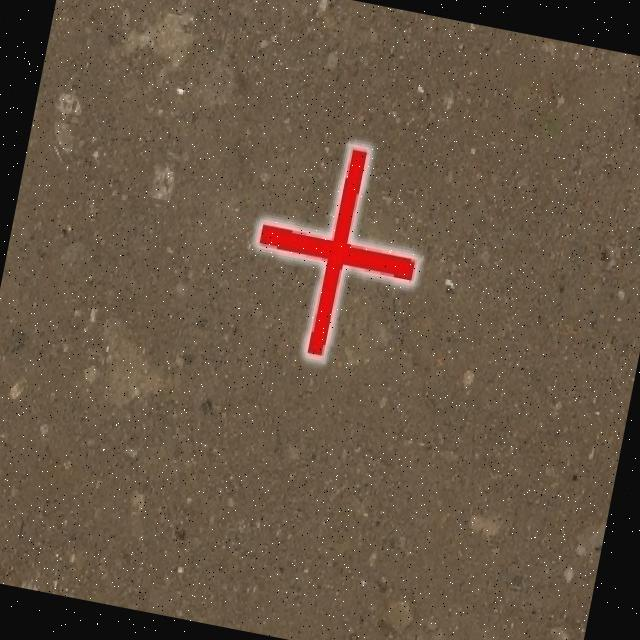x_marker: (238, 132, 436, 372)
